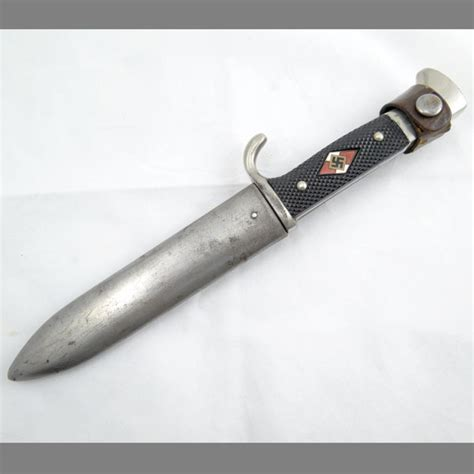knife: (8, 64, 471, 382)
